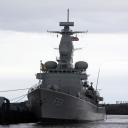Fragata: (26, 8, 108, 125)
